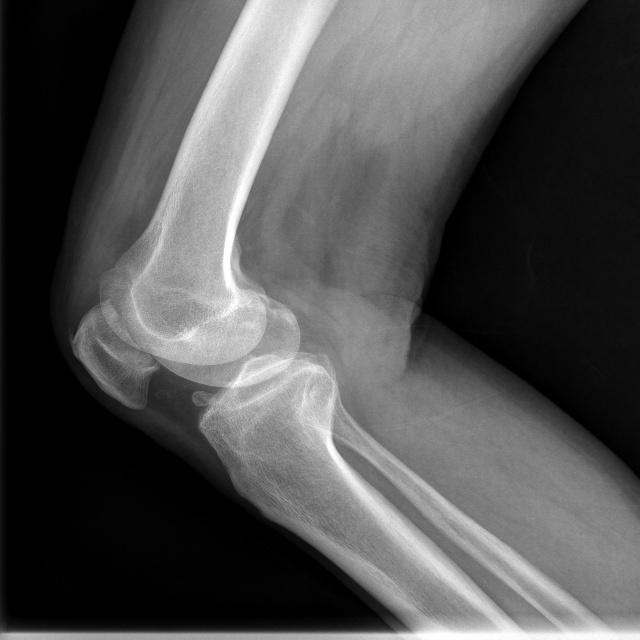Knee: (66, 262, 336, 449)
